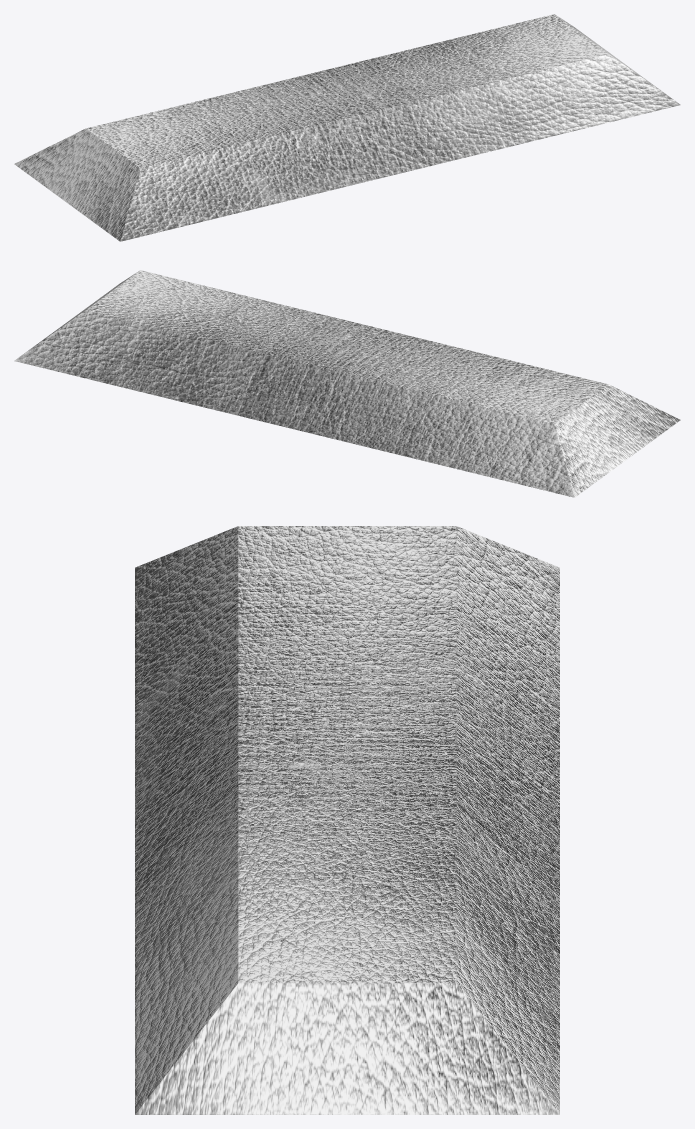
File: fluorescentLight.fbx
3 renders of one model, top to bottom at view 1: azimuth 30°, elevation 25°; view 2: azimuth 150°, elevation 25°; view 3: azimuth 270°, elevation 25°, orthographic. The views are drawn at different scales.
Visible parts, largest first — view 1: Box001; view 2: Box001; view 3: Box001.
Part boxes in pixels (<box>): Box001: <box>14,14,680,241</box>; Box001: <box>14,270,680,497</box>; Box001: <box>135,526,559,1114</box>.
Bounding box in the file's own units: 140 × 10.31 × 45.92.
Materials: 2 (2 with a texture image).
